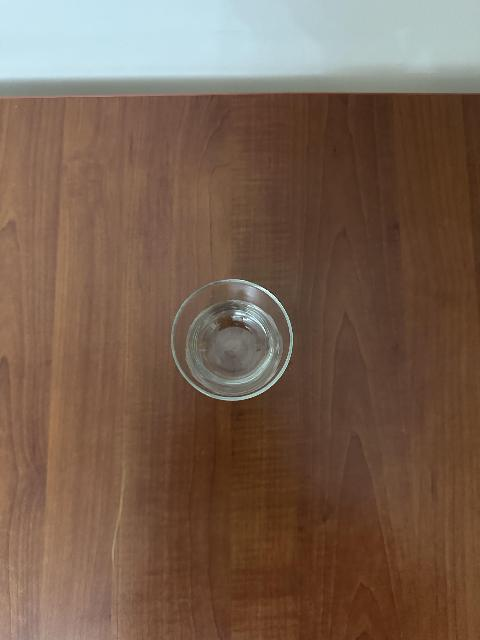Cam: (170, 279, 298, 405)
